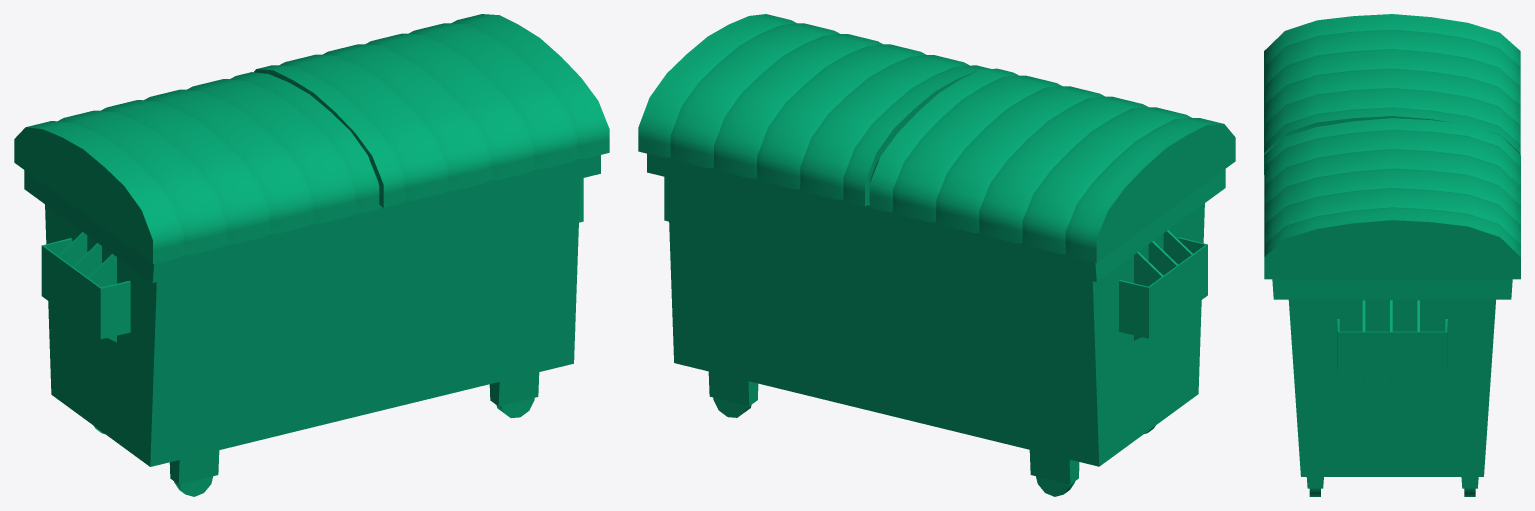
File: TrashContainer.fbx
3 renders of one model, left to right at view 1: azimuth 30°, elevation 25°; view 2: azimuth 150°, elevation 25°; view 3: azimuth 270°, elevation 25°, orthographic. The views are drawn at different scales.
Visible parts, largest first — view 1: TrashContainer; view 2: TrashContainer; view 3: TrashContainer.
Boxes of the visible parts, x1=… form: TrashContainer: x1=14, y1=14, x2=609, y2=496; TrashContainer: x1=638, y1=14, x2=1235, y2=496; TrashContainer: x1=1264, y1=14, x2=1520, y2=496.
Bounding box in the file's own units: 87.15 × 57.05 × 43.42.
